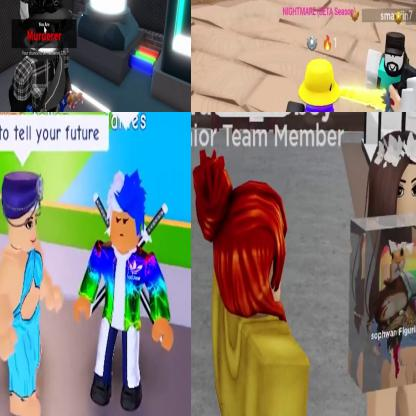Roblox-Avatar: (193, 149, 311, 416), (73, 169, 175, 412), (352, 130, 416, 416), (1, 172, 65, 416), (9, 1, 85, 112), (366, 31, 416, 112), (284, 60, 357, 112)
